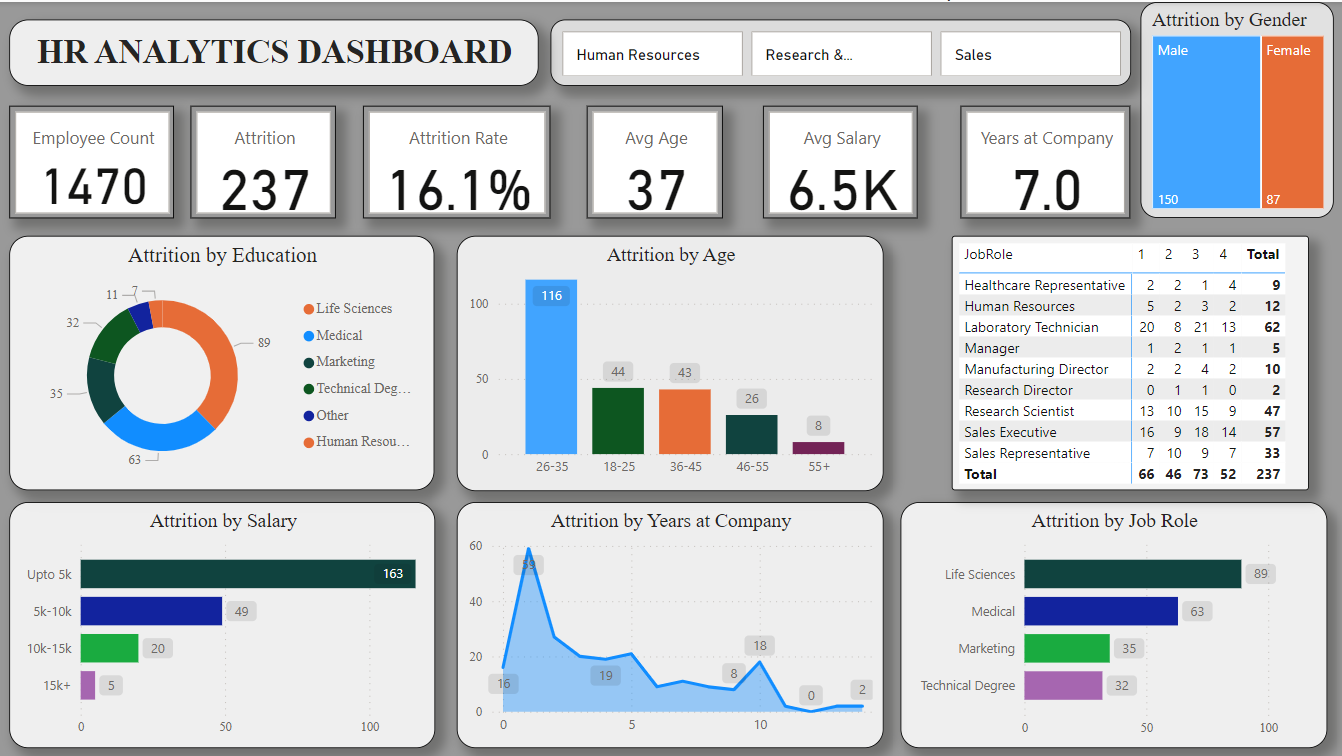

The page's visual inventory and layout, read from the dashboard file:
{"tool":"powerbi","page":{"name":"Page 1","canvas":[1280,720],"ordinal":0},"visuals":[{"type":"cardVisual","title":"Total Number of Employees","fields":{"Data":["HR_Analytics.Employee Count"]},"box":[10.7,98.8,157.1,107.1],"z":0},{"type":"cardVisual","title":"Attrition","fields":{"Data":["HR_Analytics.Attrition Value Sum"]},"box":[183.3,98.8,138,107.1],"z":1000},{"type":"cardVisual","title":"Avg Salary","fields":{"Data":["Avg(HR_Analytics.MonthlyIncome)"]},"box":[728.3,98.8,147.6,107.1],"z":2000},{"type":"cardVisual","title":"Avg Age","fields":{"Data":["Avg(HR_Analytics.Age)"]},"box":[560.5,98.8,129.7,107.1],"z":3000},{"type":"cardVisual","title":"Attrition Rate","fields":{"Data":["HR_Analytics.Attrition Rate"]},"box":[347.5,98.8,178.5,107.1],"z":4000},{"type":"cardVisual","title":"Years at Company","fields":{"Data":["Avg(HR_Analytics.YearsAtCompany)"]},"box":[916.6,98.8,161.9,107],"z":5000},{"type":"donutChart","title":"Attrition by Education","fields":{"Category":["HR_Analytics.EducationField"],"Y":["Sum(HR_Analytics.Attrition Value)"]},"box":[10.7,222.5,404.6,242.8],"z":6000},{"type":"columnChart","title":"Attrition by Age","fields":{"Category":["HR_Analytics.AgeGroup"],"Y":["Sum(HR_Analytics.Attrition Value)"]},"box":[436.4,222.3,406.2,242.9],"z":7000},{"type":"clusteredBarChart","title":"Attrition by Salary","fields":{"Category":["HR_Analytics.SalarySlab"],"Y":["Sum(HR_Analytics.Attrition Value)"]},"box":[10.7,476,405.8,234.4],"z":8000},{"type":"clusteredBarChart","title":"Attrition by Job Role","fields":{"Y":["Sum(HR_Analytics.Attrition Value)"],"Category":["HR_Analytics.EducationField"]},"box":[859,476.2,406.2,234.6],"z":9000},{"type":"areaChart","title":"Attrition by Years at Company","fields":{"Category":["HR_Analytics.YearsAtCompany"],"Y":["Sum(HR_Analytics.Attrition Value)"]},"box":[436.4,476.2,406.2,234.6],"z":10000},{"type":"pivotTable","fields":{"Rows":["HR_Analytics.JobRole"],"Columns":["HR_Analytics.JobSatisfaction"],"Values":["Sum(HR_Analytics.Attrition Value)"]},"box":[908,222.5,340.4,242.8],"z":11000},{"type":"advancedSlicerVisual","fields":{"Values":["HR_Analytics.Department"]},"box":[525.6,16.5,553,63.1],"z":12000},{"type":"textbox","box":[11,16.5,503.6,63.1],"z":13000},{"type":"treemap","title":"Attrition by Gender","fields":{"Group":["HR_Analytics.Gender"],"Values":["Sum(HR_Analytics.Attrition Value)"]},"box":[1088.2,0,183.9,205.8],"z":14000}]}

Visuals, with their boxes in screenshot pixels (x1, y1, x2, y2), scaled from the page's 1280x720 canvas onto the 1342x756 screenshot:
"Total Number of Employees" cardVisual: (left=11, top=104, right=176, bottom=216)
"Attrition" cardVisual: (left=192, top=104, right=337, bottom=216)
"Avg Salary" cardVisual: (left=764, top=104, right=918, bottom=216)
"Avg Age" cardVisual: (left=588, top=104, right=724, bottom=216)
"Attrition Rate" cardVisual: (left=364, top=104, right=551, bottom=216)
"Years at Company" cardVisual: (left=961, top=104, right=1131, bottom=216)
"Attrition by Education" donutChart: (left=11, top=234, right=435, bottom=489)
"Attrition by Age" columnChart: (left=458, top=233, right=883, bottom=488)
"Attrition by Salary" clusteredBarChart: (left=11, top=500, right=437, bottom=746)
"Attrition by Job Role" clusteredBarChart: (left=901, top=500, right=1326, bottom=746)
"Attrition by Years at Company" areaChart: (left=458, top=500, right=883, bottom=746)
pivotTable - HR_Analytics.JobRole x HR_Analytics.JobSatisfaction: (left=952, top=234, right=1309, bottom=489)
advancedSlicerVisual - HR_Analytics.Department: (left=551, top=17, right=1131, bottom=84)
textbox: (left=12, top=17, right=540, bottom=84)
"Attrition by Gender" treemap: (left=1141, top=0, right=1334, bottom=216)
